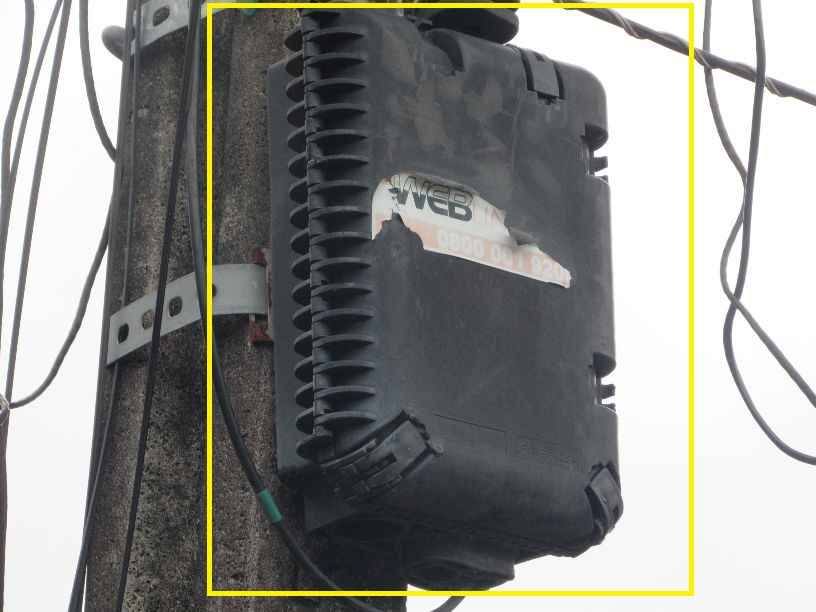caixa_derivacao: (244, 9, 621, 571)
